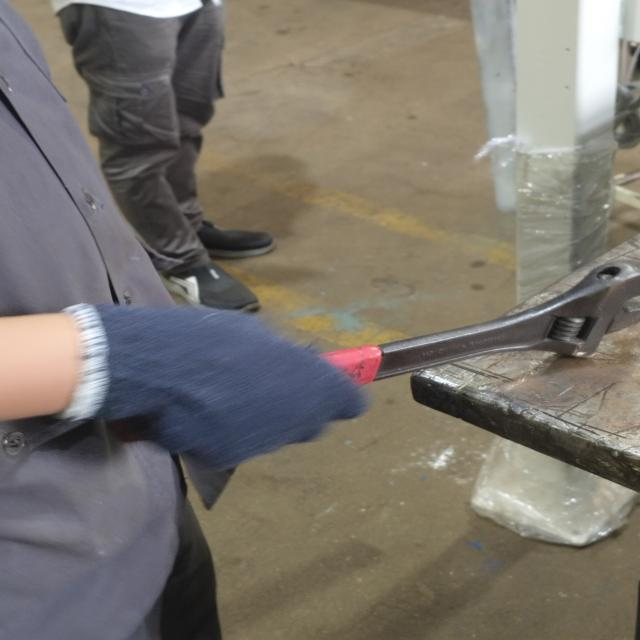Gloves-Detection: (77, 300, 343, 461)
